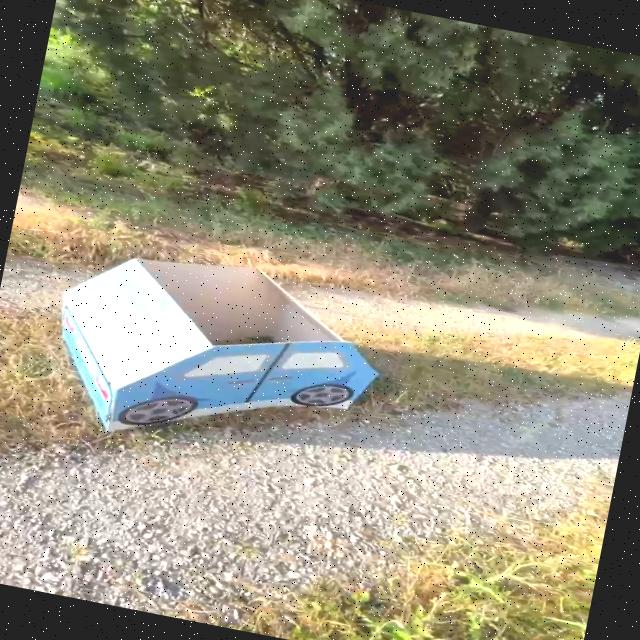blue_car: (0, 212, 478, 521)
